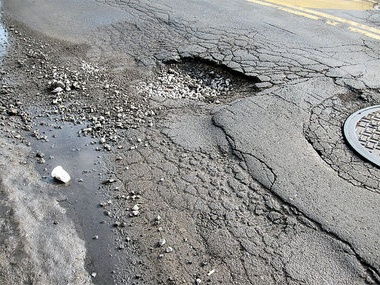pothole: (140, 51, 270, 109)
